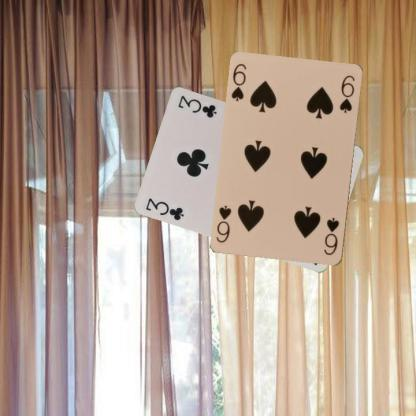3c: (143, 194, 186, 222)
6s: (229, 61, 248, 103), (322, 214, 340, 257)
